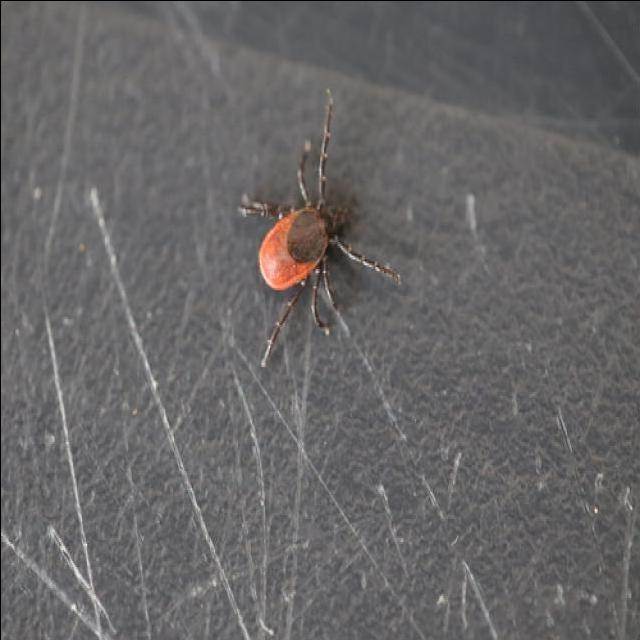Ixodes Ricinus-F: (238, 88, 402, 369)
